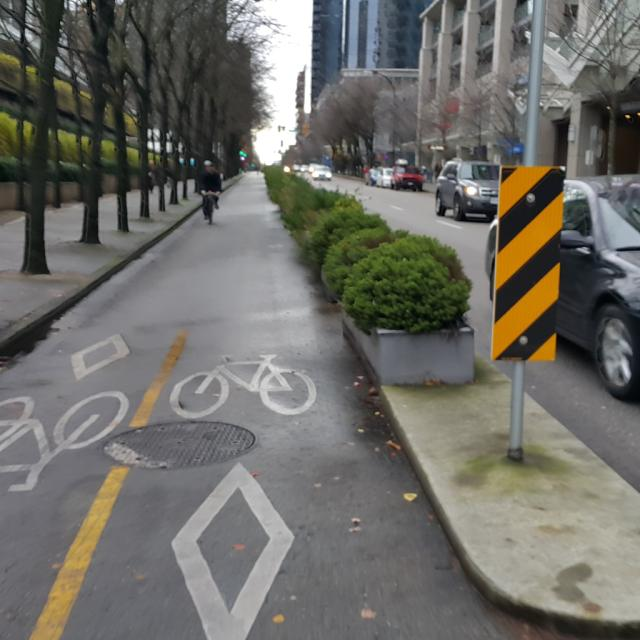car: (389, 157, 424, 191), (310, 161, 330, 180)
